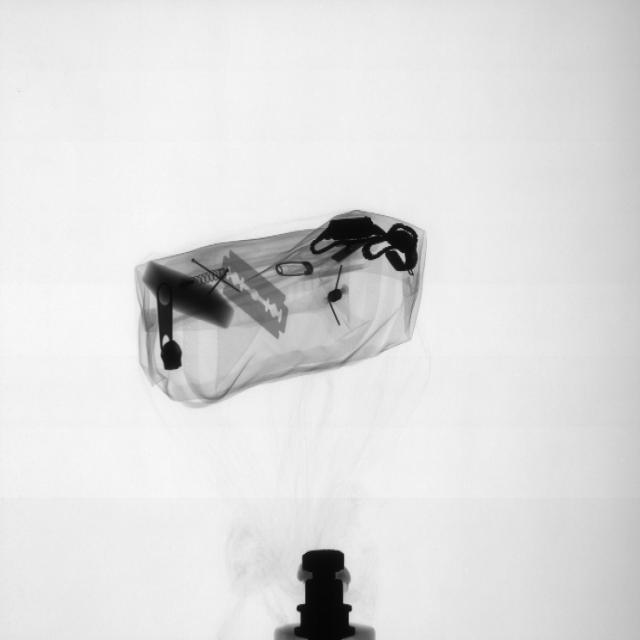BLADE: (224, 265, 290, 344)
